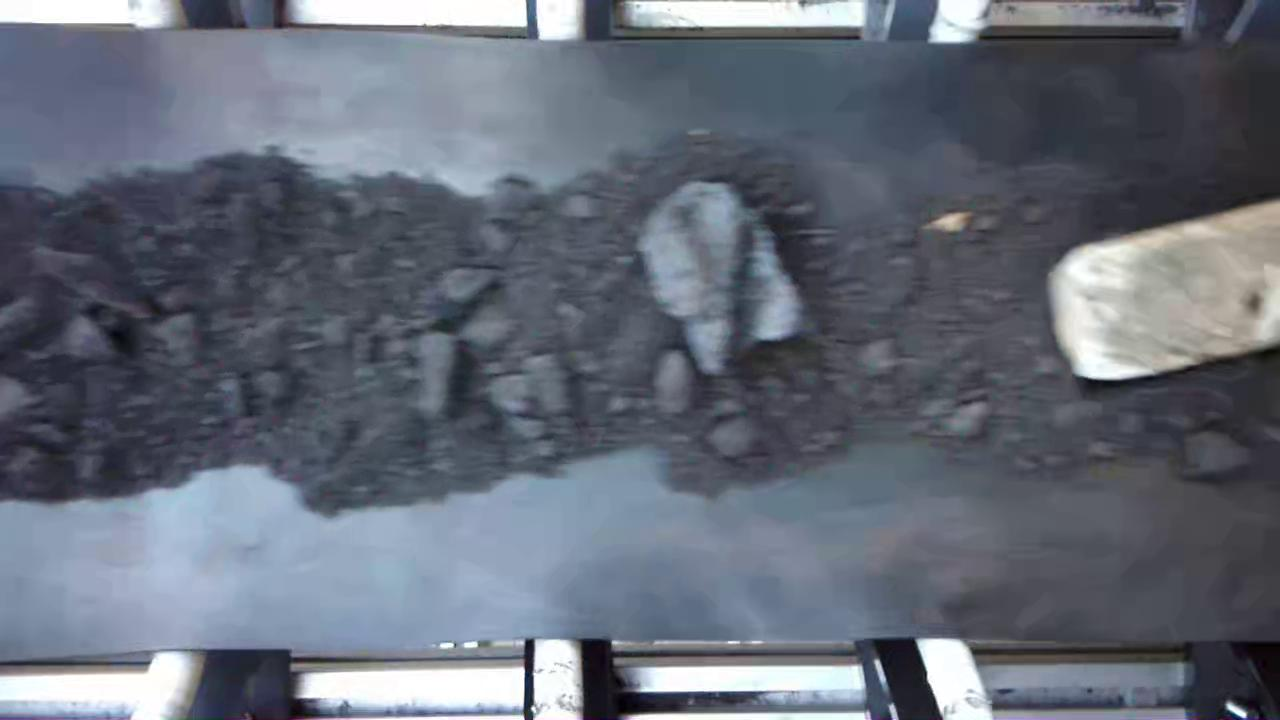conveyor: (3, 54, 1280, 633)
